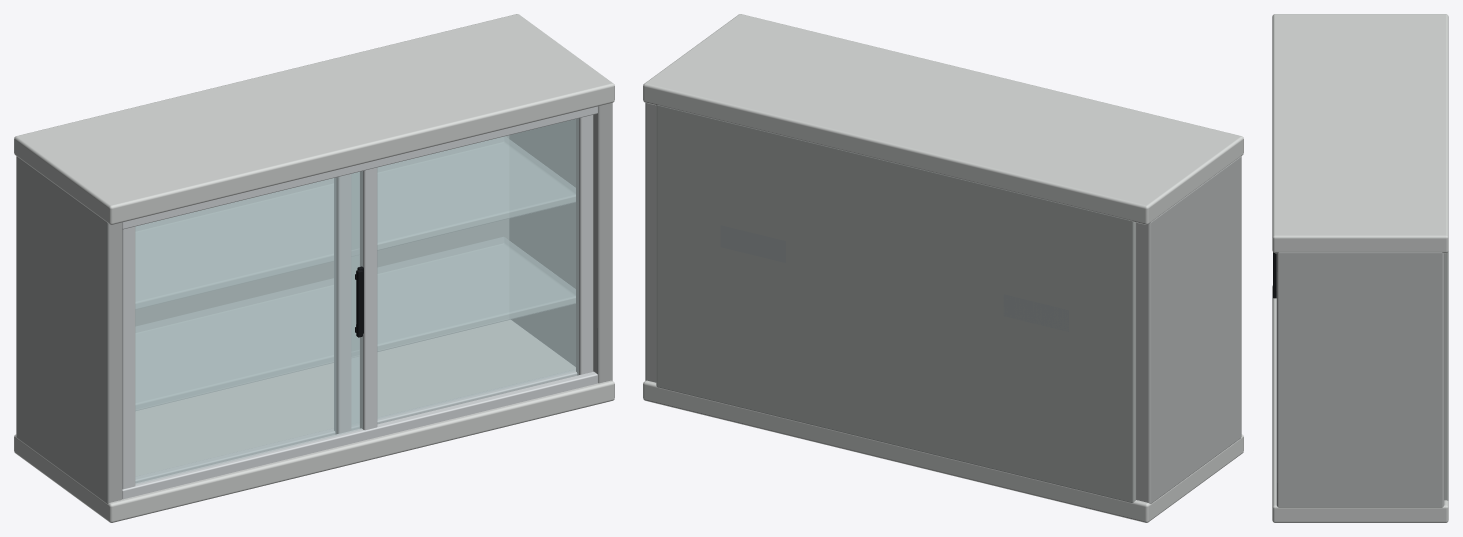
File: glass-wall-cabinet.glb
3 renders of one model, left to right at view 1: azimuth 30°, elevation 25°; view 2: azimuth 150°, elevation 25°; view 3: azimuth 270°, elevation 25°, orthographic. The views are drawn at different scales.
Parts seen in each view (by area): view 1: Runtime batch - Warm gray powder coat highlight, Runtime batch - __moving__Access - Sliding glazed door -1, Runtime batch - __moving__Access - Sliding glazed door +1, Runtime batch - Frosted safety glass, Runtime batch - Room 809 light gray powder coat, Runtime batch - Satin anodized aluminum, Runtime batch - Casework interior enamel; view 2: Runtime batch - Casework interior enamel, Runtime batch - Warm gray powder coat highlight, Runtime batch - Room 809 light gray powder coat, Runtime batch - Zinc plated hardware; view 3: Runtime batch - Warm gray powder coat highlight, Runtime batch - Room 809 light gray powder coat, Runtime batch - Casework interior enamel.
Part boxes in pixels (left/top/right/bottom): Runtime batch - Warm gray powder coat highlight: left=14, top=14, right=614, bottom=522; Runtime batch - __moving__Access - Sliding glazed door -1: left=122, top=167, right=377, bottom=489; Runtime batch - __moving__Access - Sliding glazed door +1: left=334, top=115, right=593, bottom=434; Runtime batch - Frosted safety glass: left=135, top=136, right=575, bottom=410; Runtime batch - Room 809 light gray powder coat: left=16, top=103, right=612, bottom=503; Runtime batch - Satin anodized aluminum: left=122, top=106, right=597, bottom=499; Runtime batch - Casework interior enamel: left=135, top=135, right=508, bottom=351; Runtime batch - Casework interior enamel: left=656, top=105, right=1136, bottom=502; Runtime batch - Warm gray powder coat highlight: left=643, top=14, right=1243, bottom=522; Runtime batch - Room 809 light gray powder coat: left=645, top=103, right=1241, bottom=503; Runtime batch - Zinc plated hardware: left=720, top=225, right=1068, bottom=331; Runtime batch - Warm gray powder coat highlight: left=1272, top=14, right=1448, bottom=522; Runtime batch - Room 809 light gray powder coat: left=1276, top=252, right=1444, bottom=507; Runtime batch - Casework interior enamel: left=1444, top=251, right=1448, bottom=500.
Size of the model in its own units: 1.2 by 0.72 by 0.4.
